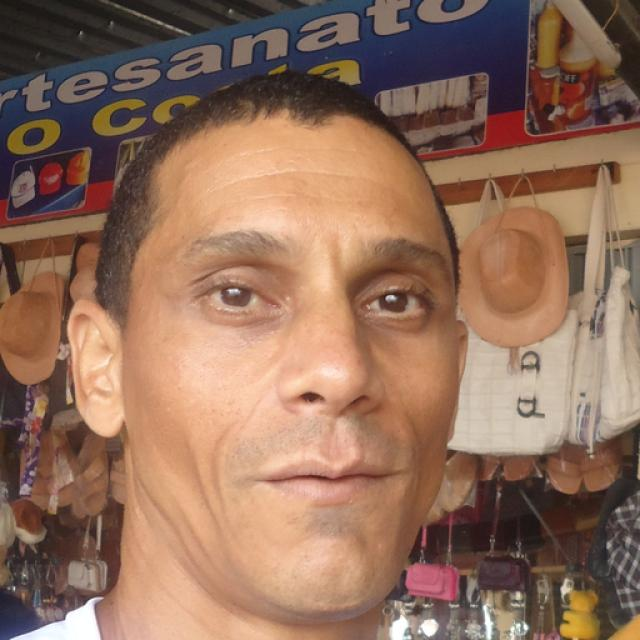Wrinkle: (223, 163, 390, 191)
